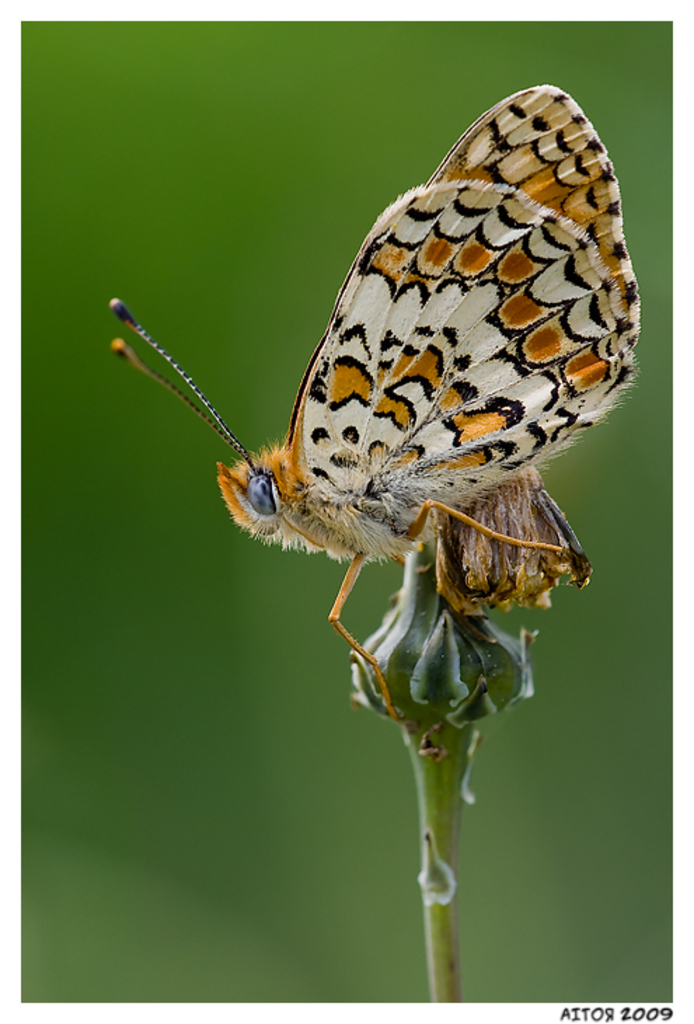Butterfly: (168, 72, 638, 573)
